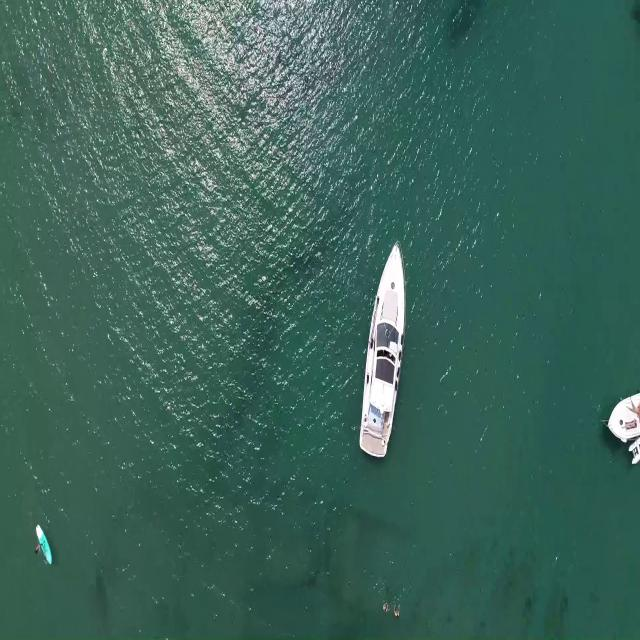boat: (358, 242, 406, 458), (603, 386, 640, 468)
person: (34, 541, 44, 555), (394, 604, 403, 618), (382, 601, 391, 613)
surfboard: (36, 522, 52, 570)
